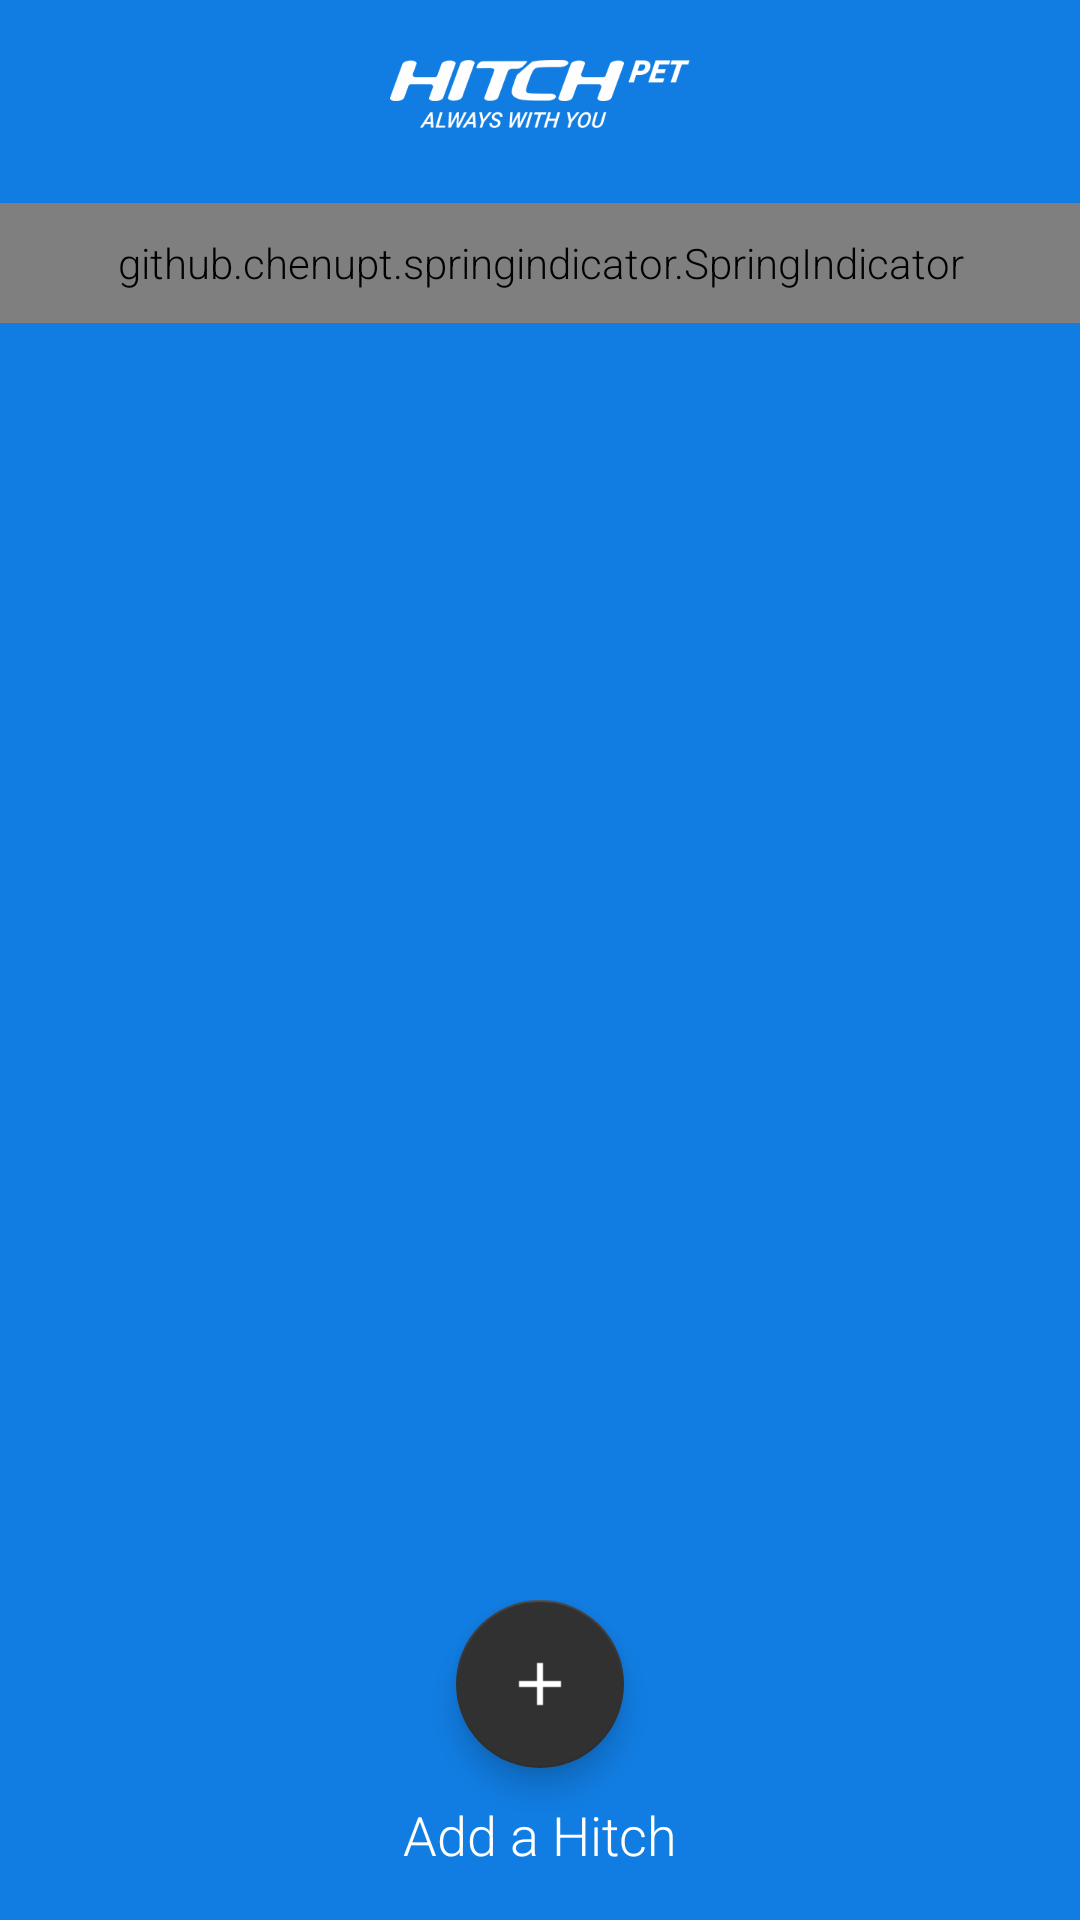

Screen size 1080 x 1920. Icon name, then its center in pixels as point (x, y):
plus: point (540, 1684)
